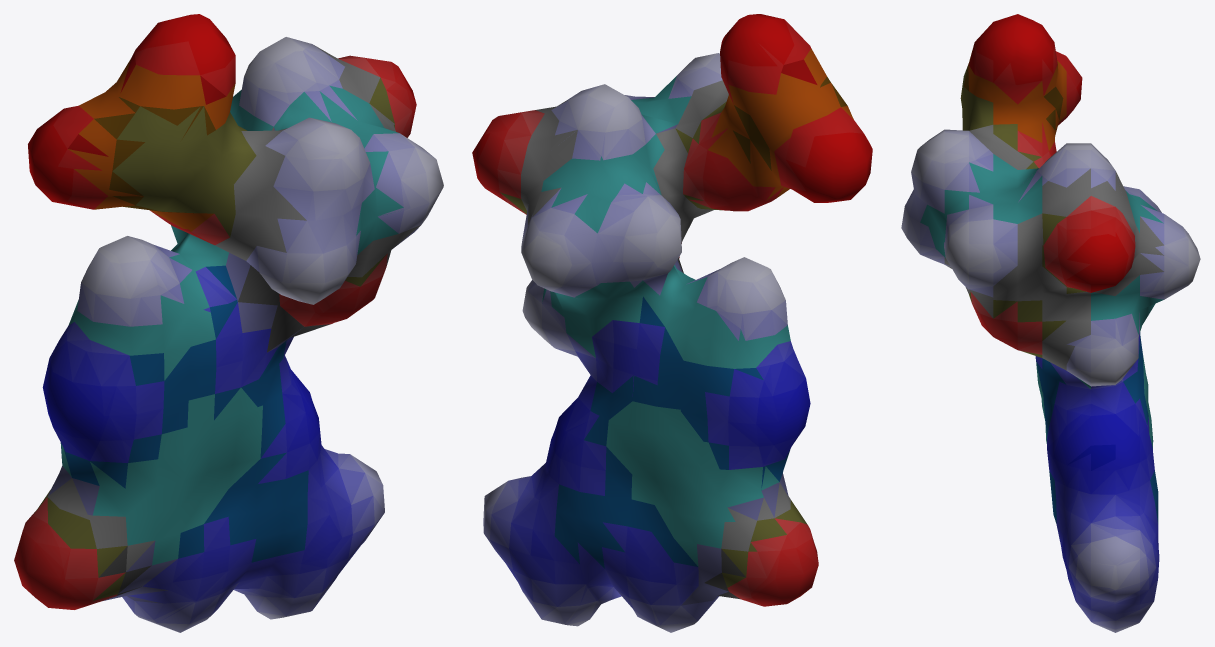
Rendered from guanine_surface.obj.
The picture shows the model from 3 angles, left to right: view 1: azimuth 30°, elevation 25°; view 2: azimuth 150°, elevation 25°; view 3: azimuth 270°, elevation 25°; orthographic projection. The views are drawn at different scales.
Parts seen in each view (by area): view 1: vmd_mol1_rep0; view 2: vmd_mol1_rep0; view 3: vmd_mol1_rep0.
Boxes of the visible parts, x1,y1,x2,y2 form: vmd_mol1_rep0: (14, 14, 443, 632); vmd_mol1_rep0: (472, 14, 872, 632); vmd_mol1_rep0: (901, 14, 1200, 632).
Bounding box in the file's own units: 1.06 × 1.69 × 0.8366.
